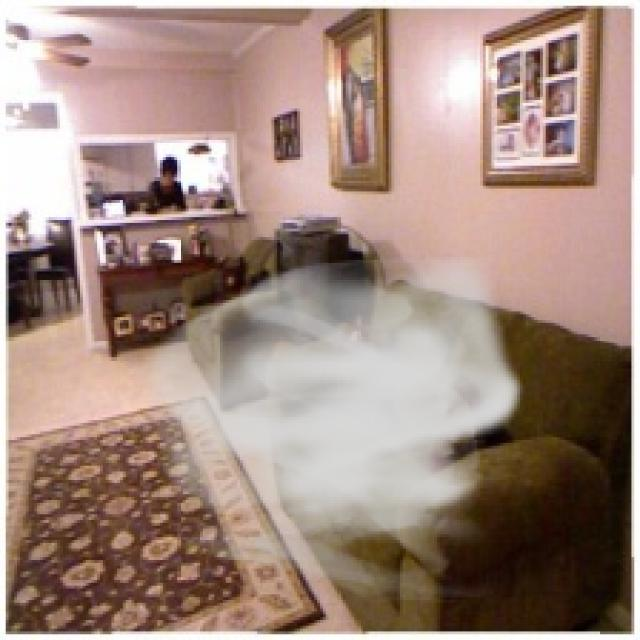smoke: (131, 245, 526, 606)
